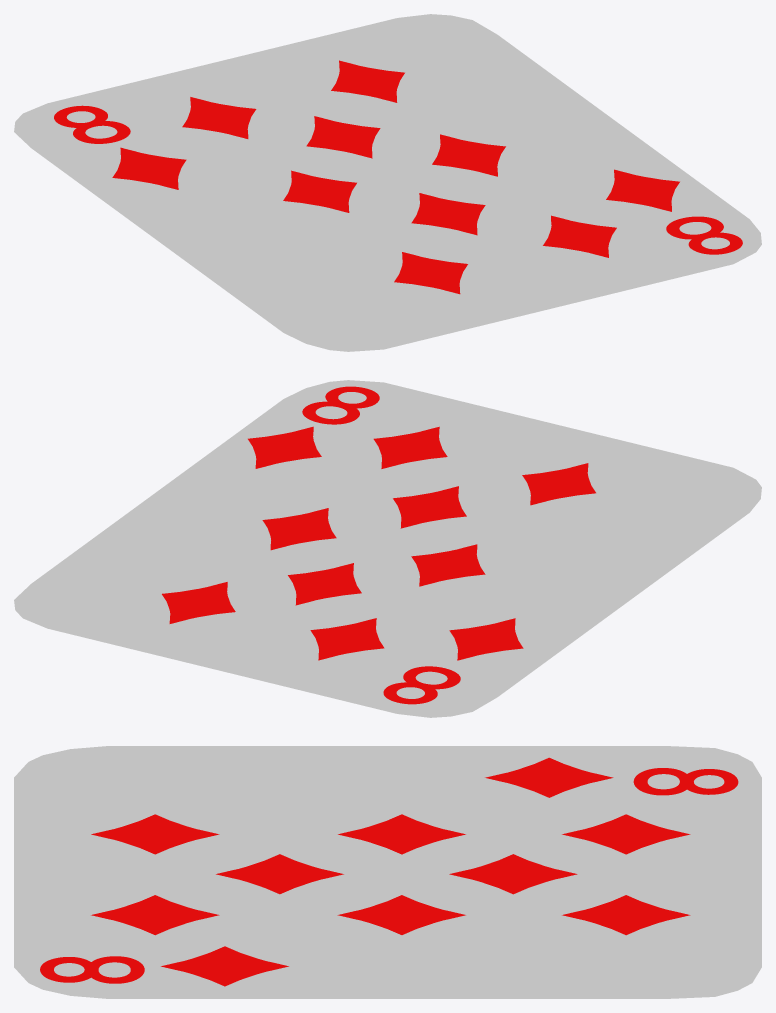
3 renders of one model, top to bottom at view 1: azimuth 30°, elevation 25°; view 2: azimuth 150°, elevation 25°; view 3: azimuth 270°, elevation 25°, orthographic. The views are drawn at different scales.
Parts seen in each view (by area): view 1: 8ofDiamonds, Plane.048_Materia, Plane.053_Materia, Plane.044_Materia, Plane.045_Materia, Plane.049_Materia, Plane.052_Materia, Plane.046_Materia, Plane.051_Materia, Plane.047_Materia, Plane.050_Materia, Font.016_Bla_Blac.001 (+1 smaller); view 2: 8ofDiamonds, Plane.051_Materia, Plane.045_Materia, Plane.046_Materia, Plane.048_Materia, Plane.049_Materia, Plane.052_Materia, Plane.050_Materia, Plane.053_Materia, Plane.047_Materia, Plane.044_Materia, Font.016_Bla_Blac.001 (+1 smaller); view 3: 8ofDiamonds, Plane.045_Materia, Plane.044_Materia, Plane.046_Materia, Plane.050_Materia, Plane.048_Materia, Plane.049_Materia, Plane.053_Materia, Plane.047_Materia, Plane.051_Materia, Plane.052_Materia, Font.016_Bla_Blac.001 (+1 smaller).
Part boxes in pixels (x1,y1,x2,y2): 8ofDiamonds: [14, 14, 761, 351]; Plane.048_Materia: [112, 147, 186, 189]; Plane.053_Materia: [411, 193, 485, 235]; Plane.044_Materia: [306, 116, 380, 158]; Plane.045_Materia: [394, 252, 467, 294]; Plane.049_Materia: [331, 60, 404, 102]; Plane.052_Materia: [283, 170, 356, 212]; Plane.046_Materia: [182, 97, 256, 138]; Plane.051_Materia: [432, 134, 505, 176]; Plane.047_Materia: [606, 169, 679, 211]; Plane.050_Materia: [543, 215, 616, 257]; Font.016_Bla_Blac.001: [666, 216, 742, 254]; 8ofDiamonds: [14, 380, 761, 717]; Plane.051_Materia: [262, 508, 336, 550]; Plane.045_Materia: [522, 463, 595, 505]; Plane.046_Materia: [310, 618, 384, 660]; Plane.048_Materia: [449, 618, 523, 660]; Plane.049_Materia: [162, 582, 235, 623]; Plane.052_Materia: [411, 544, 485, 586]; Plane.050_Materia: [373, 426, 447, 468]; Plane.053_Materia: [393, 486, 466, 528]; Plane.047_Materia: [248, 426, 321, 468]; Plane.044_Materia: [288, 563, 361, 605]; Font.016_Bla_Blac.001: [302, 386, 379, 424]; 8ofDiamonds: [14, 746, 761, 998]; Plane.045_Materia: [91, 814, 219, 854]; Plane.044_Materia: [449, 854, 577, 894]; Plane.046_Materia: [562, 814, 690, 854]; Plane.050_Materia: [91, 895, 219, 935]; Plane.048_Materia: [485, 757, 613, 797]; Plane.049_Materia: [562, 895, 690, 935]; Plane.053_Materia: [216, 854, 343, 894]; Plane.047_Materia: [161, 946, 288, 986]; Plane.051_Materia: [337, 895, 465, 934]; Plane.052_Materia: [338, 814, 465, 854]; Font.016_Bla_Blac.001: [40, 956, 144, 983].
Size of the model in its own units: 1.6 by 0.00974 by 2.
